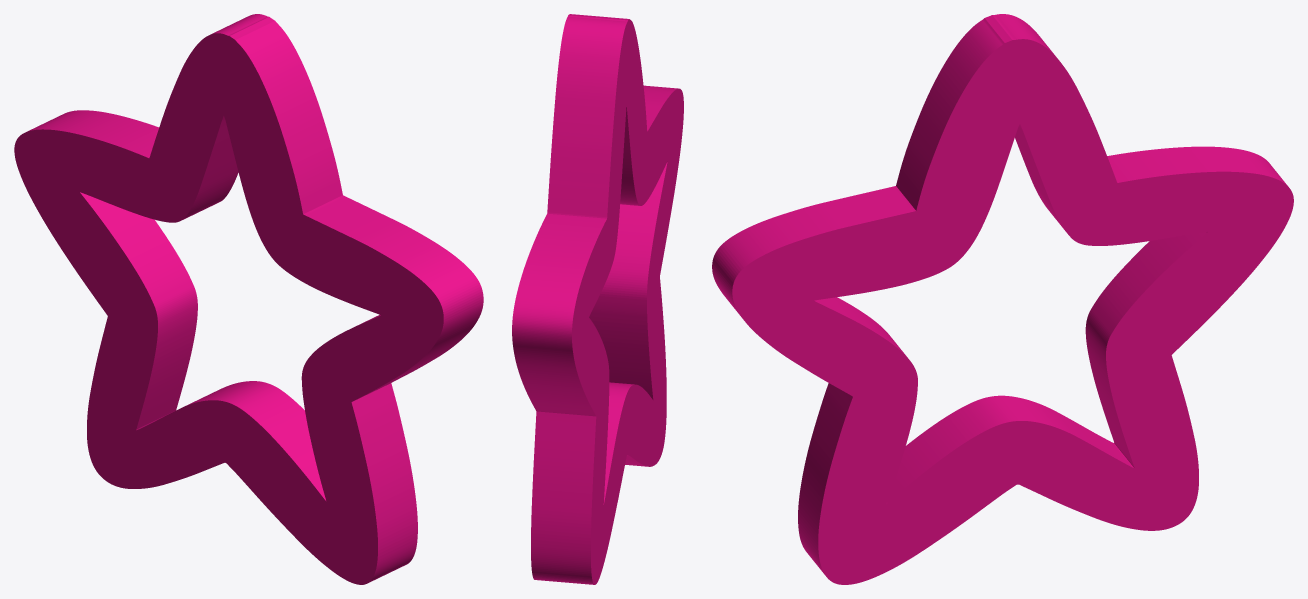
File: Star.glb
3 renders of one model, left to right at view 1: azimuth 30°, elevation 25°; view 2: azimuth 150°, elevation 25°; view 3: azimuth 270°, elevation 25°, orthographic. The views are drawn at different scales.
Visible parts, largest first — view 1: Curve; view 2: Curve; view 3: Curve.
Part boxes in pixels (<box>): Curve: <box>14,14,483,584</box>; Curve: <box>512,14,683,584</box>; Curve: <box>712,14,1293,584</box>.
Bounding box in the file's own units: 0.1077 × 0.2471 × 0.25.
